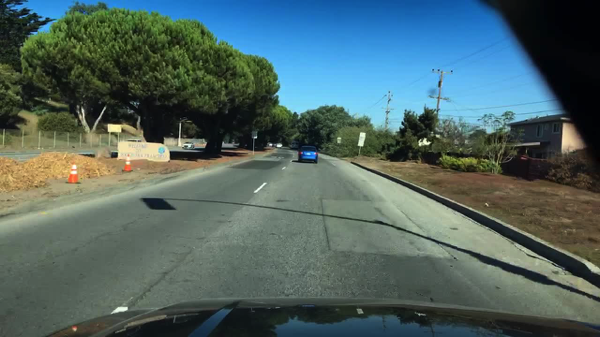car: (110, 140, 141, 159), (298, 147, 318, 164), (74, 149, 97, 159), (182, 142, 195, 150), (288, 142, 300, 150), (275, 143, 283, 149), (267, 142, 272, 147), (272, 143, 276, 147)
traffic sign: (357, 132, 367, 147), (107, 124, 122, 133), (251, 131, 258, 140), (337, 137, 341, 144)
